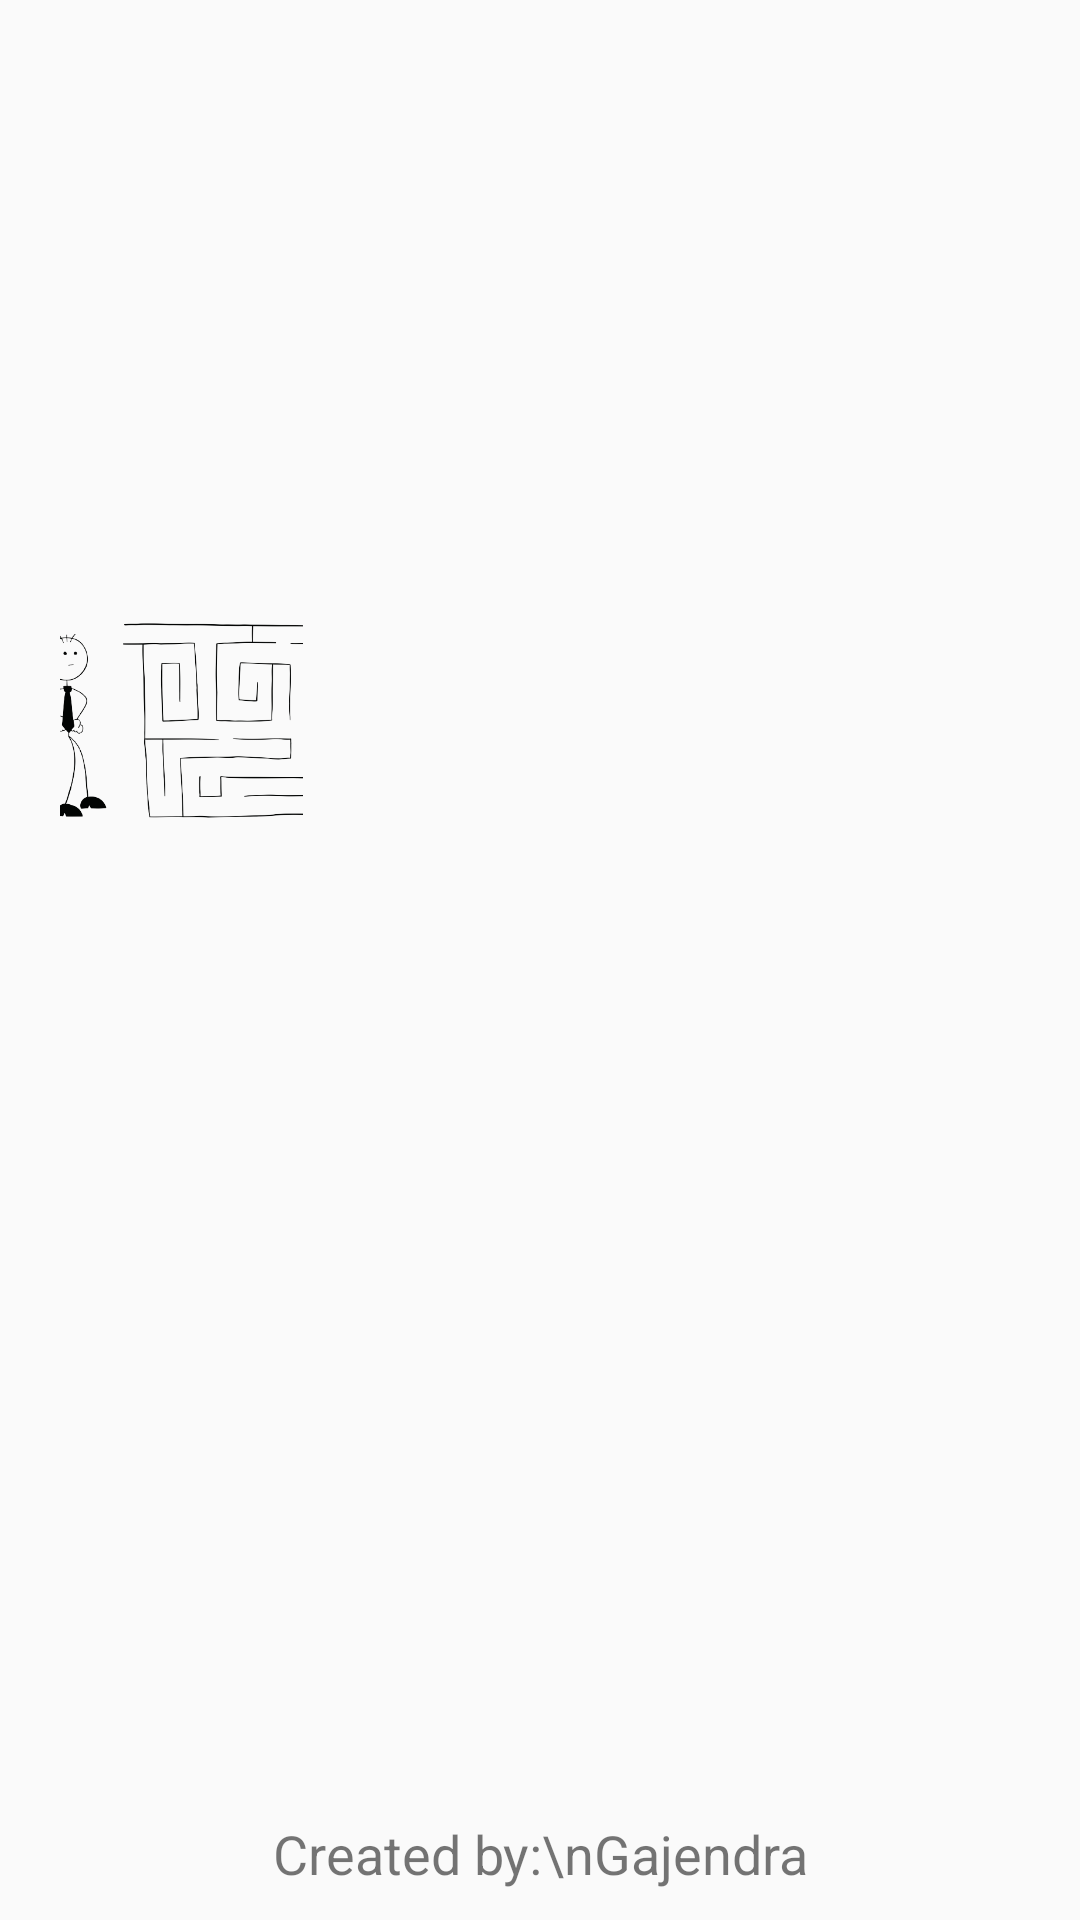

Icon click points for this 1080 x 1920 phone screenshot, format (x,y):
kid problem: (181,720)
